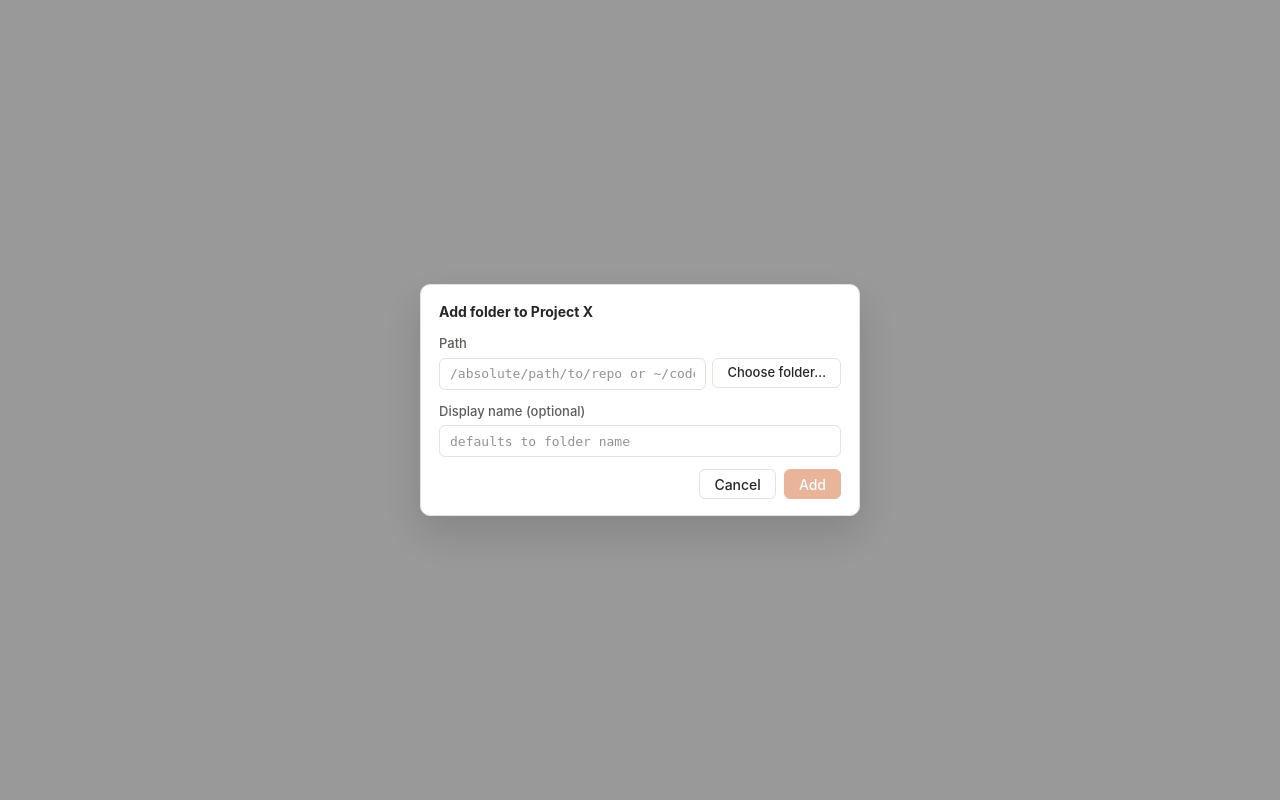
Scenario: AddFolderDialog — Browse button › Browse → 1 candidate → input auto-fills
Click the button "Choose folder…" at point(777, 372), box [712,358,841,388]
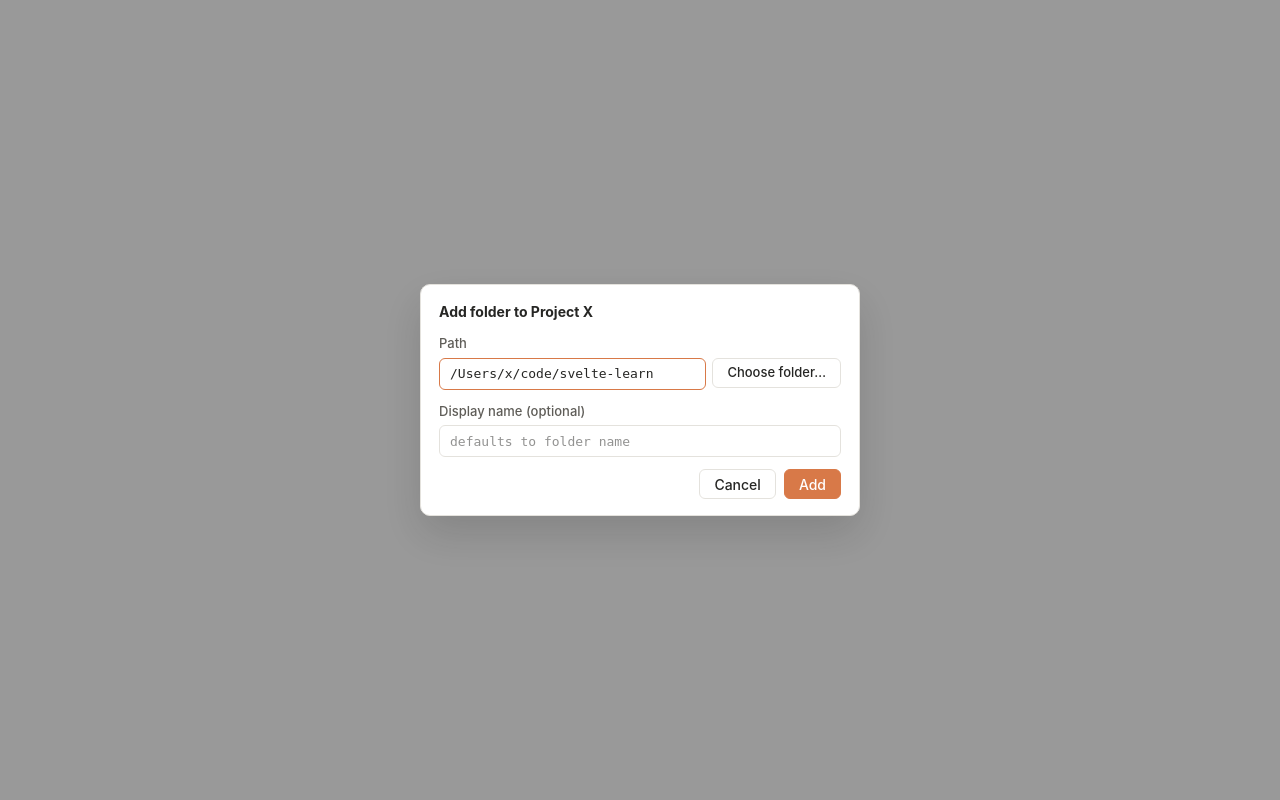
Check: the field with placeholder "/absolute/path/to/repo or ~/code/proj" holds "/Users/x/code/svelte-learn", box [439,358,706,390]
